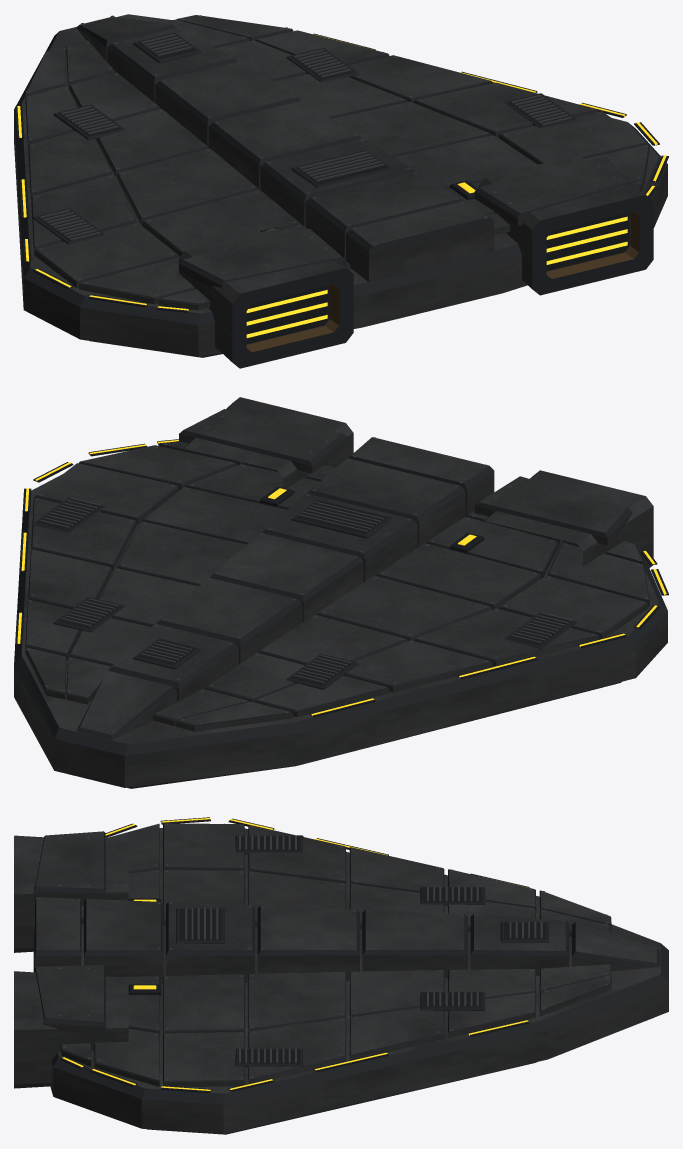
Rendered from cutlass.glb.
The picture shows the model from 3 angles, top to bottom: view 1: azimuth 30°, elevation 25°; view 2: azimuth 150°, elevation 25°; view 3: azimuth 270°, elevation 25°; orthographic projection. The views are drawn at different scales.
Visible parts, largest first — view 1: Segmented shoulder plating, Low central dorsal spine, Continuous clipped wedge hull, Aft engine service covers, Vent louvers, Engine starboard bevel frame, Engine port bevel frame, Engine port housing, Vent cavities, Engine starboard housing, Vent frames, Engine port cavity (+8 smaller); view 2: Segmented shoulder plating, Low central dorsal spine, Continuous clipped wedge hull, Aft engine service covers, Vent louvers, Engine port housing, Vent cavities, Engine starboard housing, Vent frames, Boundary seam recesses, Interrupted boundary seams, Flush fasteners (+2 smaller); view 3: Segmented shoulder plating, Low central dorsal spine, Continuous clipped wedge hull, Aft engine service covers, Engine starboard housing, Vent cavities, Engine port housing, Vent frames, Vent louvers, Boundary seam recesses, Interrupted boundary seams, Flush fasteners (+1 smaller).
Part boxes in pixels (left/top/right/bottom): Segmented shoulder plating: left=25, top=15, right=649, bottom=310; Low central dorsal spine: left=76, top=17, right=494, bottom=282; Continuous clipped wedge hull: left=14, top=14, right=667, bottom=357; Aft engine service covers: left=179, top=156, right=632, bottom=287; Vent louvers: left=39, top=34, right=571, bottom=240; Engine starboard bevel frame: left=532, top=194, right=653, bottom=295; Engine port bevel frame: left=232, top=268, right=353, bottom=368; Engine port housing: left=179, top=228, right=345, bottom=361; Vent cavities: left=37, top=33, right=572, bottom=241; Engine starboard housing: left=479, top=155, right=645, bottom=288; Vent frames: left=32, top=32, right=577, bottom=244; Engine port cavity: left=246, top=285, right=329, bottom=343; Segmented shoulder plating: left=25, top=441, right=649, bottom=731; Low central dorsal spine: left=76, top=437, right=494, bottom=739; Continuous clipped wedge hull: left=14, top=474, right=667, bottom=787; Aft engine service covers: left=179, top=409, right=632, bottom=545; Vent louvers: left=39, top=497, right=571, bottom=683; Engine port housing: left=480, top=470, right=653, bottom=567; Vent cavities: left=37, top=499, right=572, bottom=685; Engine starboard housing: left=180, top=397, right=353, bottom=488; Vent frames: left=32, top=497, right=577, bottom=689; Boundary seam recesses: left=15, top=439, right=668, bottom=717; Interrupted boundary seams: left=17, top=440, right=666, bottom=715; Flush fasteners: left=26, top=415, right=647, bottom=733; Segmented shoulder plating: left=61, top=823, right=611, bottom=1086; Low central dorsal spine: left=35, top=897, right=660, bottom=984; Continuous clipped wedge hull: left=33, top=823, right=668, bottom=1134; Aft engine service covers: left=33, top=831, right=105, bottom=1033; Engine starboard housing: left=14, top=971, right=128, bottom=1088; Vent cavities: left=179, top=836, right=545, bottom=1063; Engine port housing: left=14, top=835, right=128, bottom=952; Vent frames: left=176, top=835, right=548, bottom=1067; Vent louvers: left=185, top=835, right=542, bottom=1063; Boundary seam recesses: left=60, top=817, right=529, bottom=1092; Interrupted boundary seams: left=62, top=818, right=528, bottom=1090; Flush fasteners: left=35, top=824, right=655, bottom=1079.
Bounding box in the file's own units: 2 × 0.2666 × 2.
Materials: 7 (1 with a texture image).
